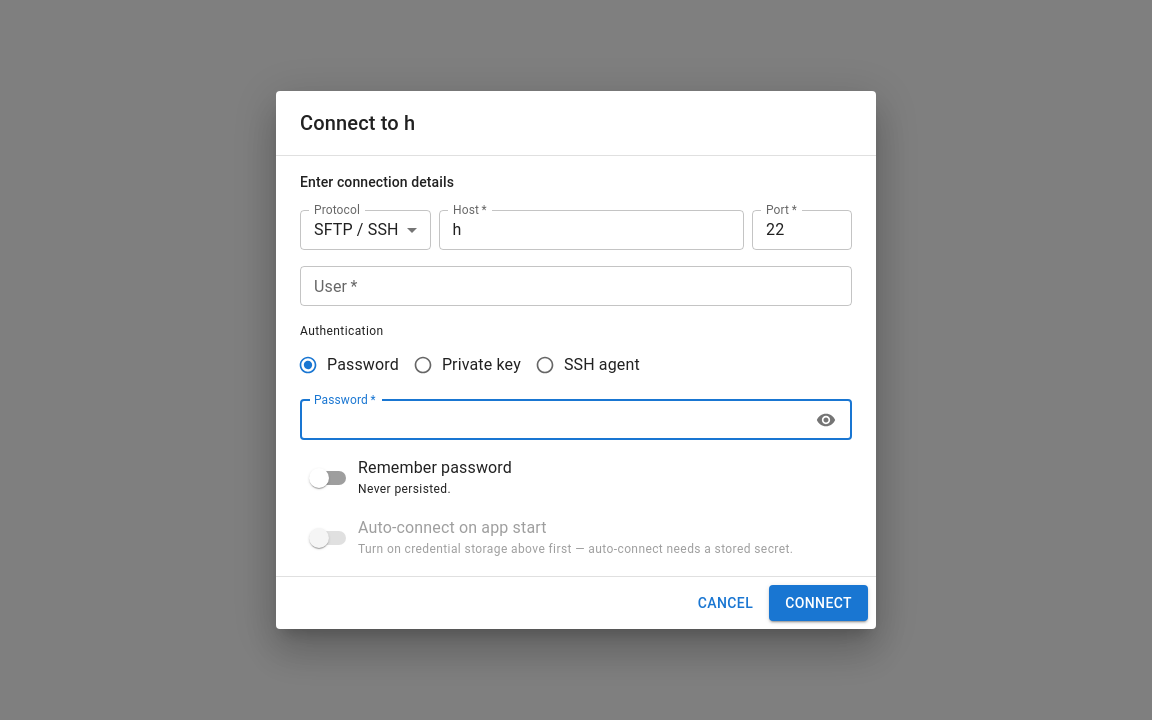
Test case: RemoteConnectDialog › SFTP auth mode radio group reveals key file path when 'privateKey' is picked
The image size is (1152, 720).
Click the radio button labelled "Private key": click(467, 365) [413,355,521,375]
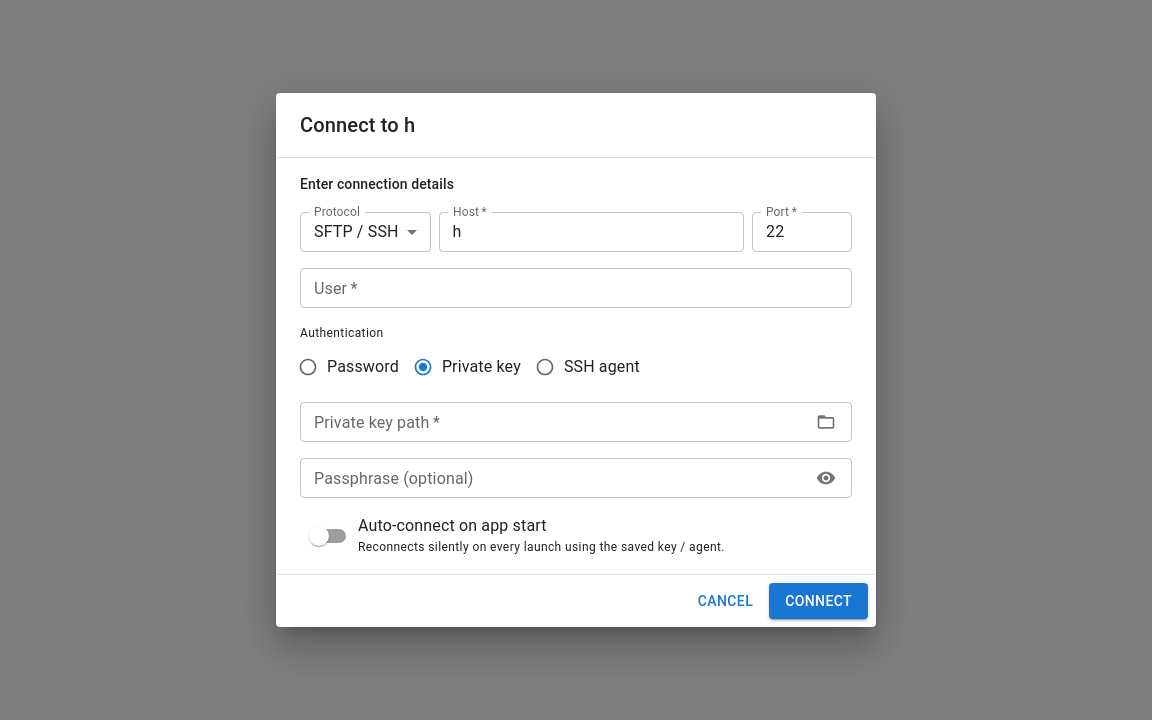
Check: the field labelled "Private key path *" is shown, box [300,402,803,442]
